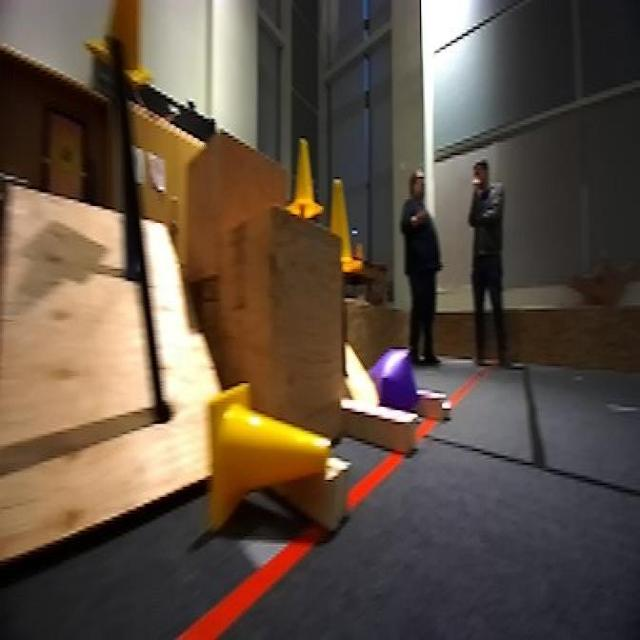frc_cone: (204, 385, 326, 519), (86, 0, 152, 83), (325, 180, 359, 278), (286, 138, 317, 219)
frc_cube: (375, 348, 418, 416)
